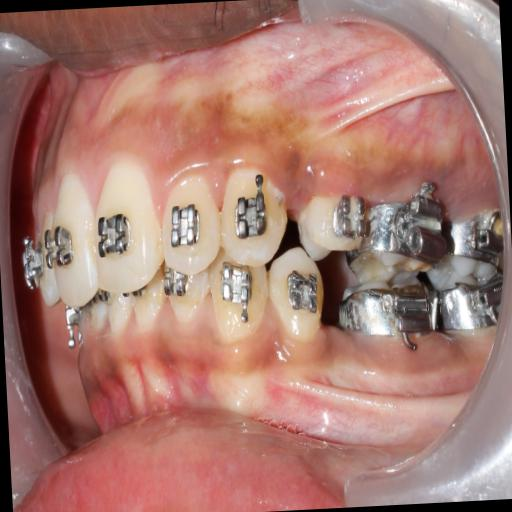correct_brace: (297, 194, 370, 256), (230, 174, 270, 241), (166, 196, 204, 254), (284, 268, 322, 324), (96, 208, 136, 261)
incorrect_brace: (158, 176, 222, 274), (330, 196, 366, 240)
